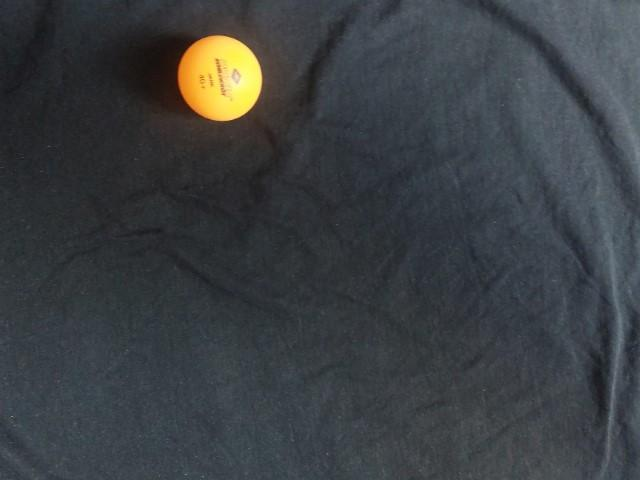oball: (374, 351, 470, 449)
